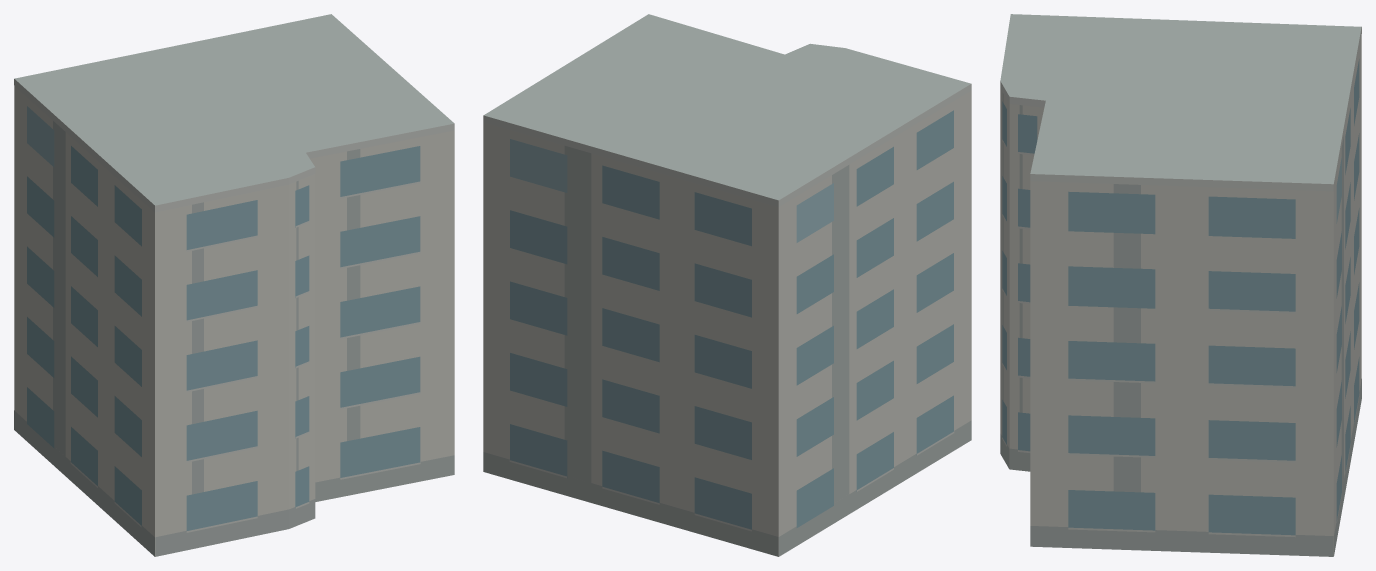
Rendered from survey-upis-32816645.glb.
The picture shows the model from 3 angles, left to right: view 1: azimuth 30°, elevation 25°; view 2: azimuth 150°, elevation 25°; view 3: azimuth 270°, elevation 25°; orthographic projection. The views are drawn at different scales.
Visible parts, largest first — view 1: survey-upis-32816645.tmp; view 2: survey-upis-32816645.tmp; view 3: survey-upis-32816645.tmp.
Boxes of the visible parts, x1,y1,x2,y2 form: survey-upis-32816645.tmp: (14, 14, 454, 556); survey-upis-32816645.tmp: (483, 14, 971, 556); survey-upis-32816645.tmp: (1000, 14, 1361, 556).
Bounding box in the file's own units: 12.35 × 12.6 × 11.08.
